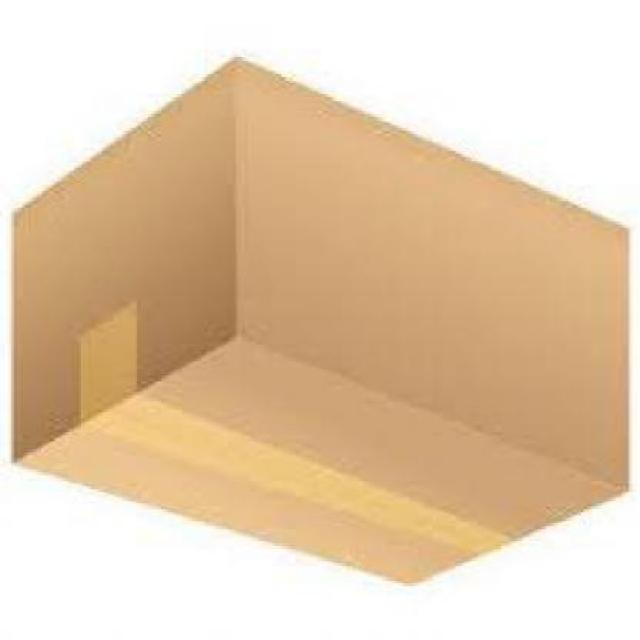CARDBOARD: (9, 62, 628, 588)
